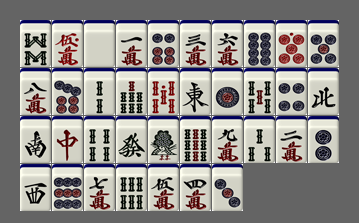0m: (52, 20, 83, 67)
0p: (276, 20, 307, 67)
0s: (148, 68, 179, 115)
1m: (116, 20, 147, 67)
1p: (212, 68, 243, 115)
1s: (148, 116, 179, 163)
1z: (180, 68, 211, 115)
2m: (276, 116, 307, 163)
2p: (308, 116, 339, 163)
2s: (84, 68, 115, 115)
2z: (20, 116, 51, 163)
3m: (180, 20, 211, 67)
3p: (212, 164, 243, 211)
3s: (244, 116, 275, 163)
3z: (20, 164, 51, 211)
4m: (180, 164, 211, 211)
4p: (276, 68, 307, 115)
4s: (84, 116, 115, 163)
4z: (308, 68, 339, 115)
5m: (148, 164, 179, 211)
5p: (308, 20, 339, 67)
5s: (244, 68, 275, 115)
5z: (84, 20, 115, 67)
6m: (212, 20, 243, 67)
6p: (148, 20, 179, 67)
6s: (116, 164, 147, 211)
6z: (116, 116, 147, 163)
7m: (84, 164, 115, 211)
7p: (52, 68, 83, 115)
7s: (116, 68, 147, 115)
7z: (52, 116, 83, 163)
8m: (20, 68, 51, 115)
8p: (244, 20, 275, 67)
8s: (20, 20, 51, 67)
9m: (212, 116, 243, 163)
9p: (52, 164, 83, 211)
9s: (180, 116, 211, 163)
